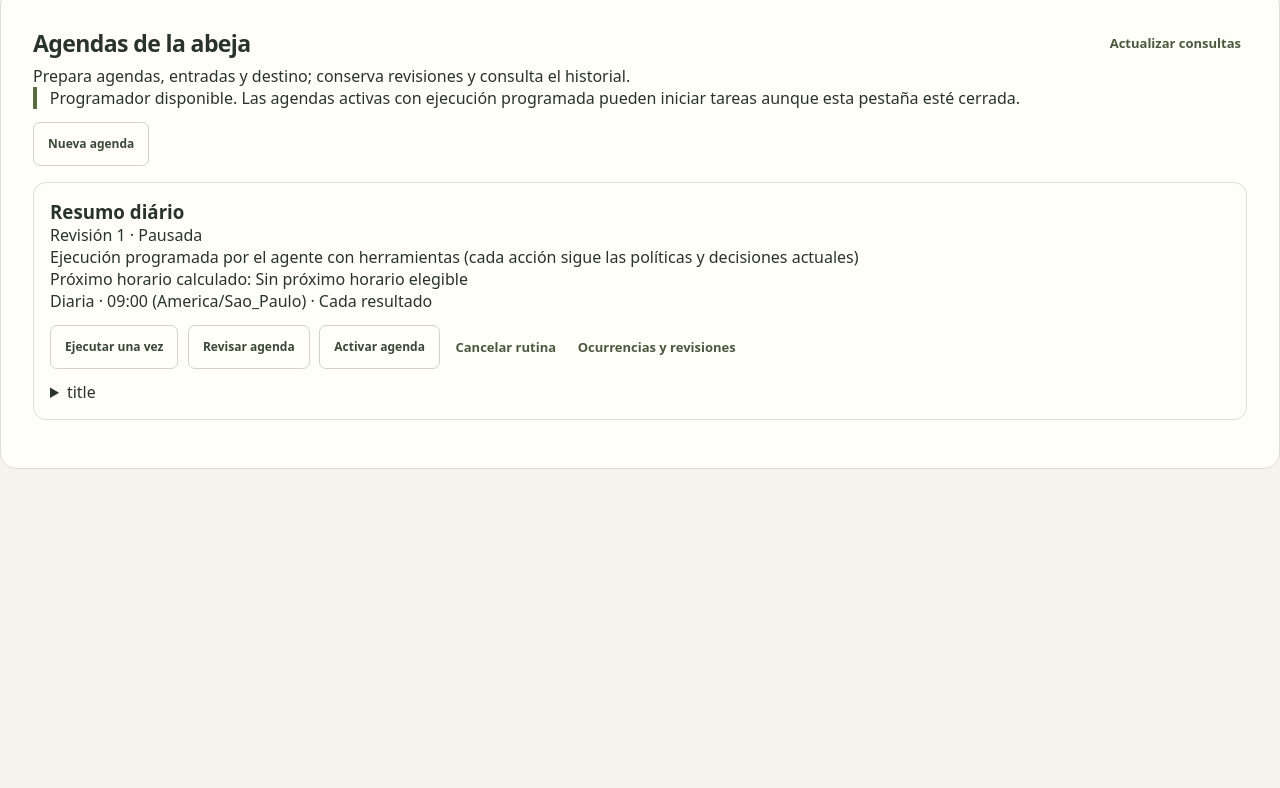
Scenario: agent routine availability and consent › offers manual agent execution without a text resource in es
Click the button "Ejecutar una vez": click(114, 347) x1=50 y1=325 x2=178 y2=369
(page scrolled)
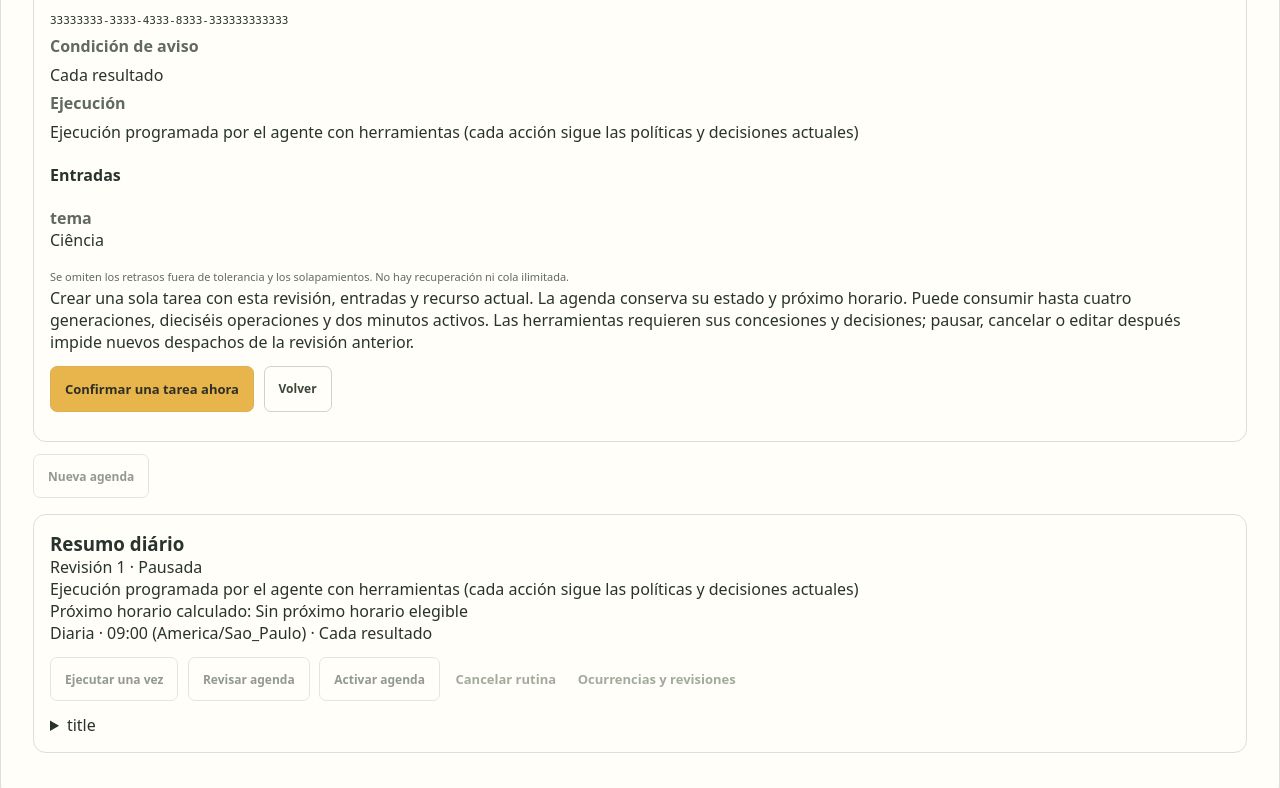
Result: the button "Confirmar una tarea ahora" is enabled at x1=50 y1=366 x2=254 y2=412
